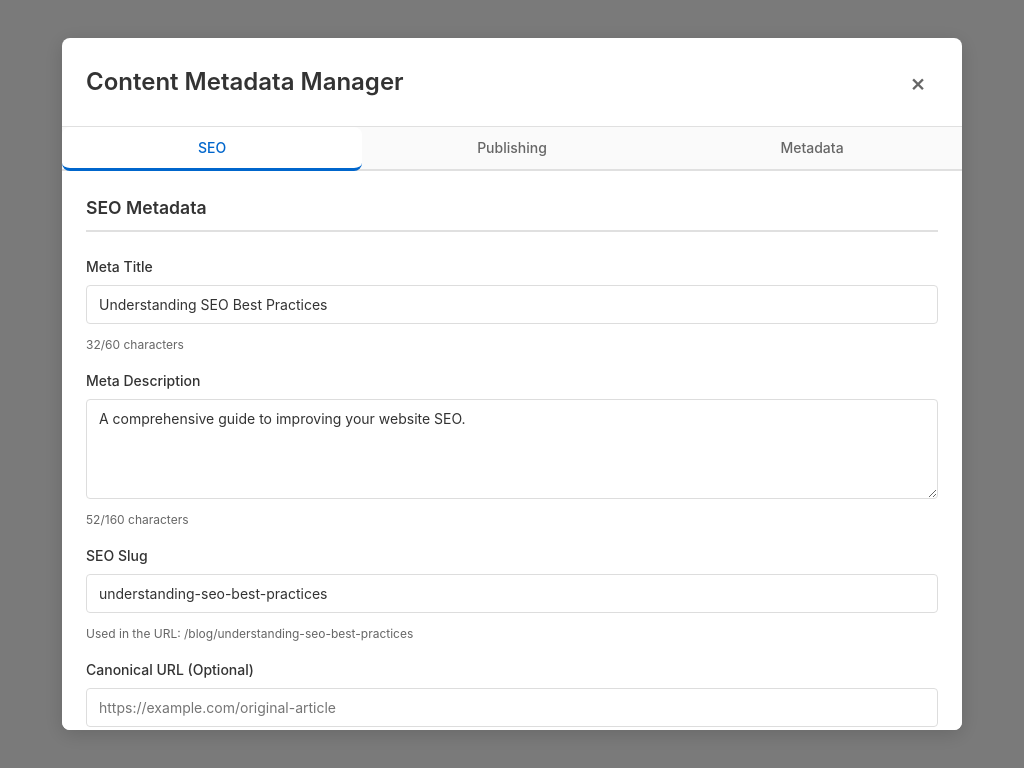
Scenario: ContentMetadataManager Component › Tab Navigation › switches between tabs when clicked
The image size is (1024, 768).
// Click Publishing tab
Click the tab "Publishing".
click(512, 149)  # box 362,127 -> 662,171
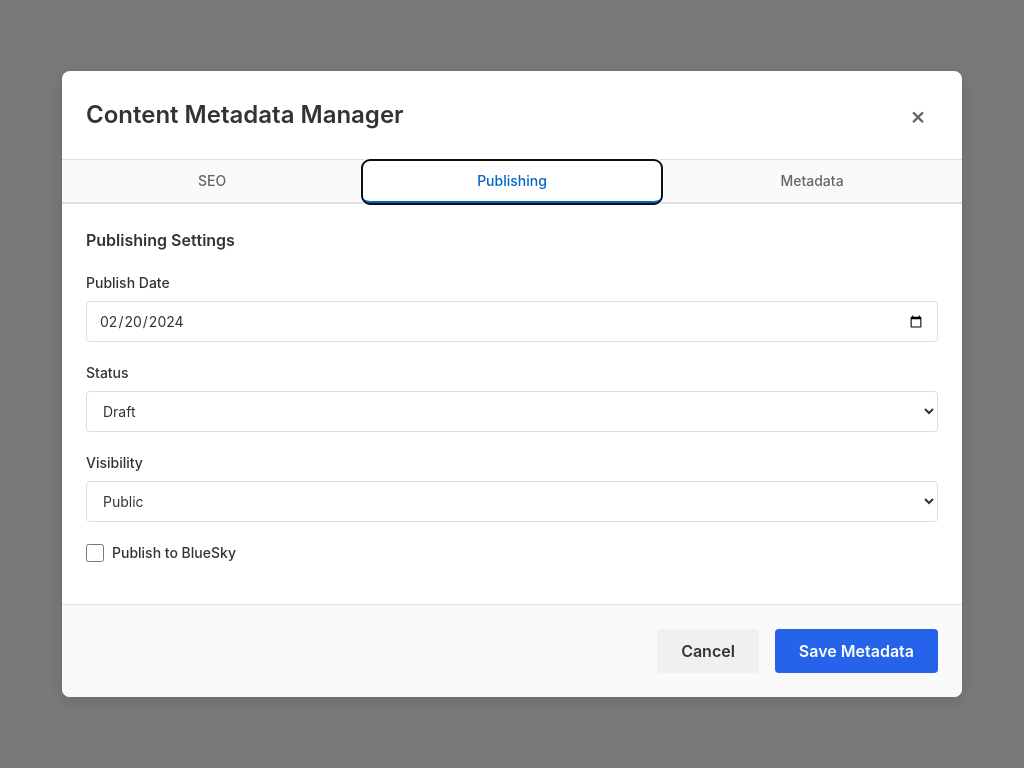
Now the date field labelled "Publish Date" is shown, box 86,301 -> 938,342
